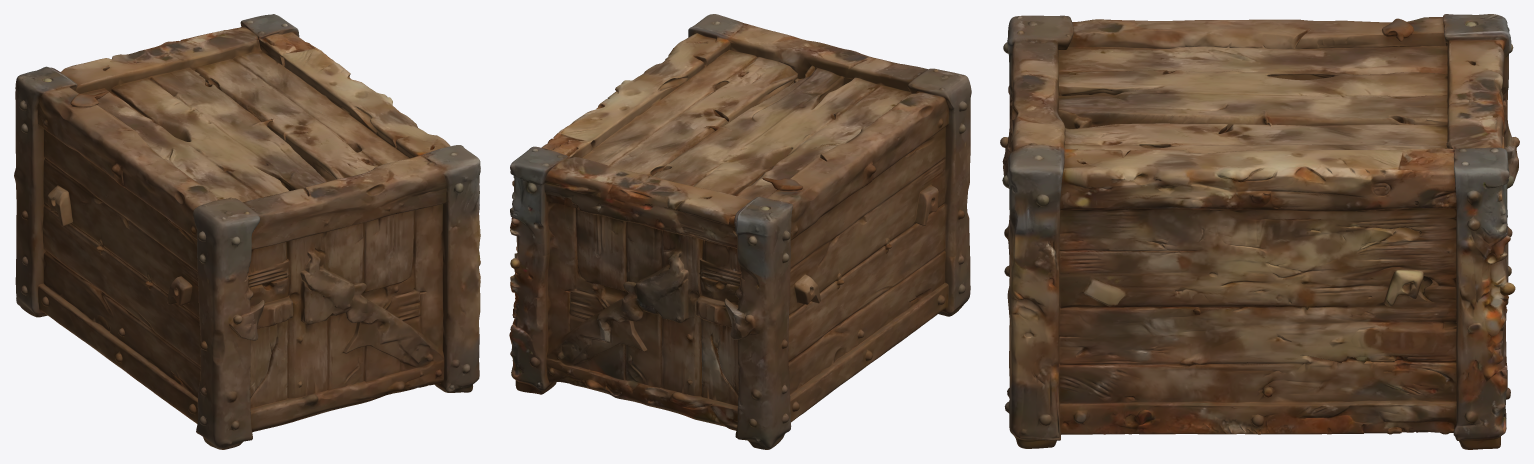
Rendered from crate.glb.
3 views of the same model, side by side, from view 1: azimuth 30°, elevation 25°; view 2: azimuth 150°, elevation 25°; view 3: azimuth 270°, elevation 25° (orthographic). The views are drawn at different scales.
Parts seen in each view (by area): view 1: tripo_node_2e82c4c5-dea4-48bb-a3e9-17d83202bf44; view 2: tripo_node_2e82c4c5-dea4-48bb-a3e9-17d83202bf44; view 3: tripo_node_2e82c4c5-dea4-48bb-a3e9-17d83202bf44.
Part boxes in pixels (bbox=[...]): tripo_node_2e82c4c5-dea4-48bb-a3e9-17d83202bf44: bbox=[14, 14, 480, 449]; tripo_node_2e82c4c5-dea4-48bb-a3e9-17d83202bf44: bbox=[509, 14, 971, 449]; tripo_node_2e82c4c5-dea4-48bb-a3e9-17d83202bf44: bbox=[1000, 14, 1519, 449].
Bounding box in the file's own units: 0.7342 × 0.6001 × 0.9811.
Materials: 1 (1 with a texture image).
